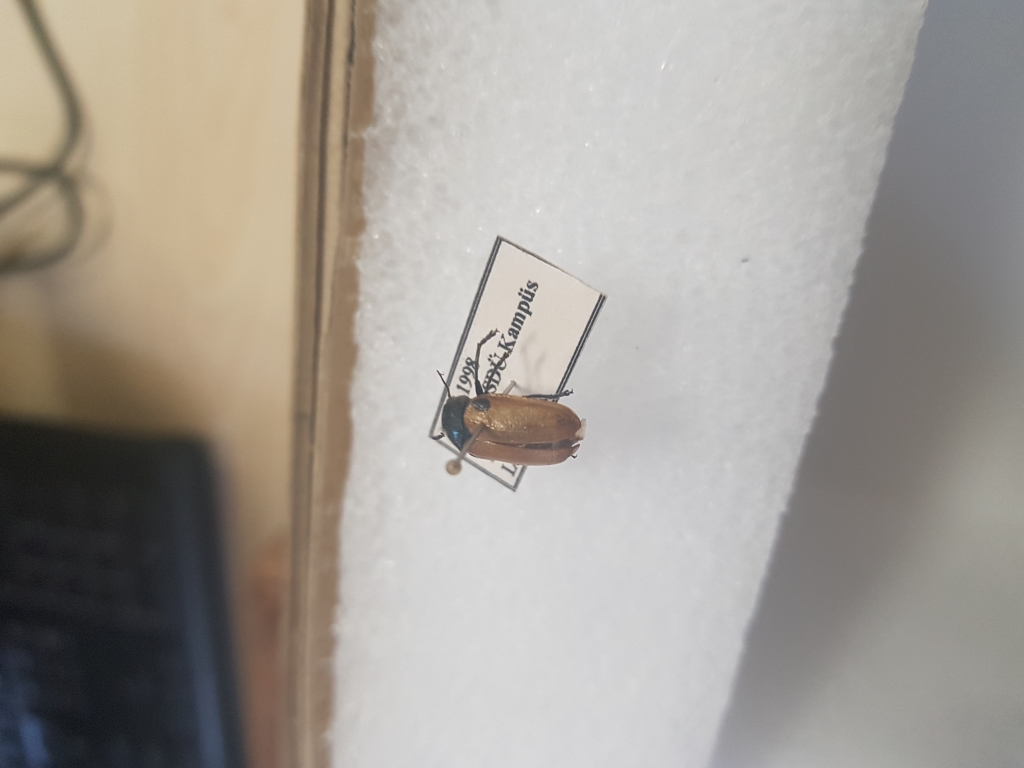Labidostomis_asiatica: (433, 324, 591, 470)
